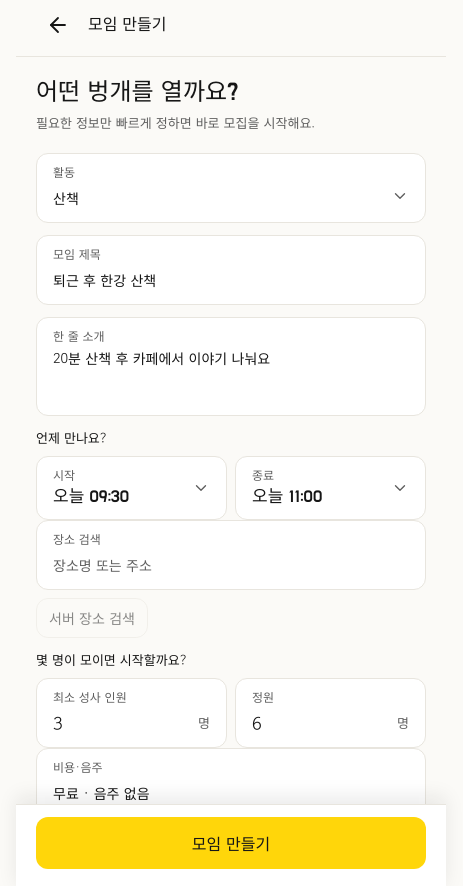
NewMeetupPage authenticated place and creation regressions › explains an empty provider search result
In the field labelled "장소 검색": (231, 565) [53,551,409,579], type "없는 장소"
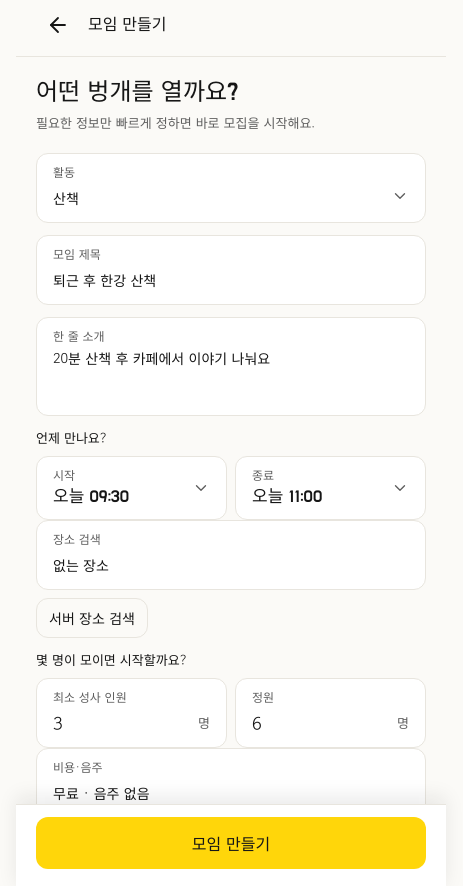
Click the button "서버 장소 검색": (92, 618) [36,598,148,638]
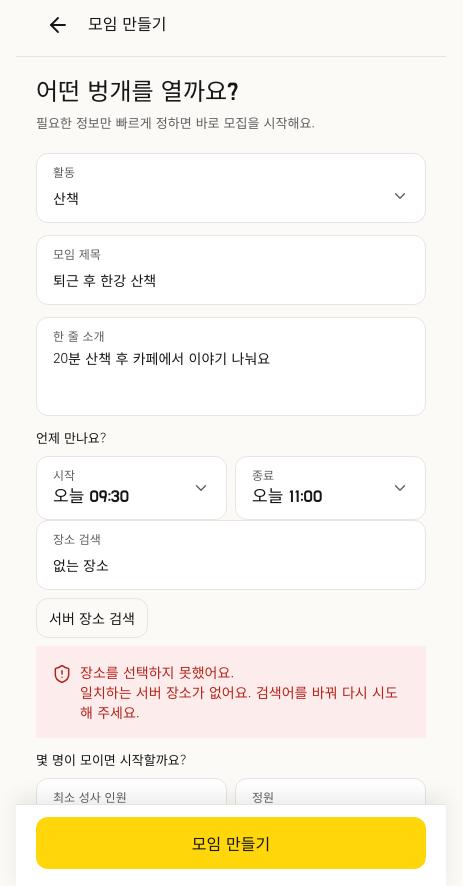
Expected: the message shows "일치하는 서버 장소가 없어요. 검색어를 바꿔 다시 시도해 주세요.", [80,682,398,722]
